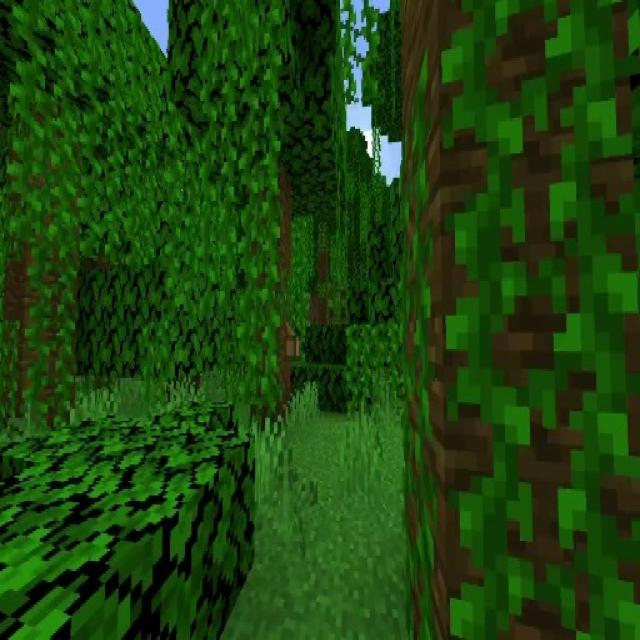jungle_log: (403, 0, 640, 640), (405, 0, 640, 640), (17, 150, 72, 428), (255, 200, 294, 426)
